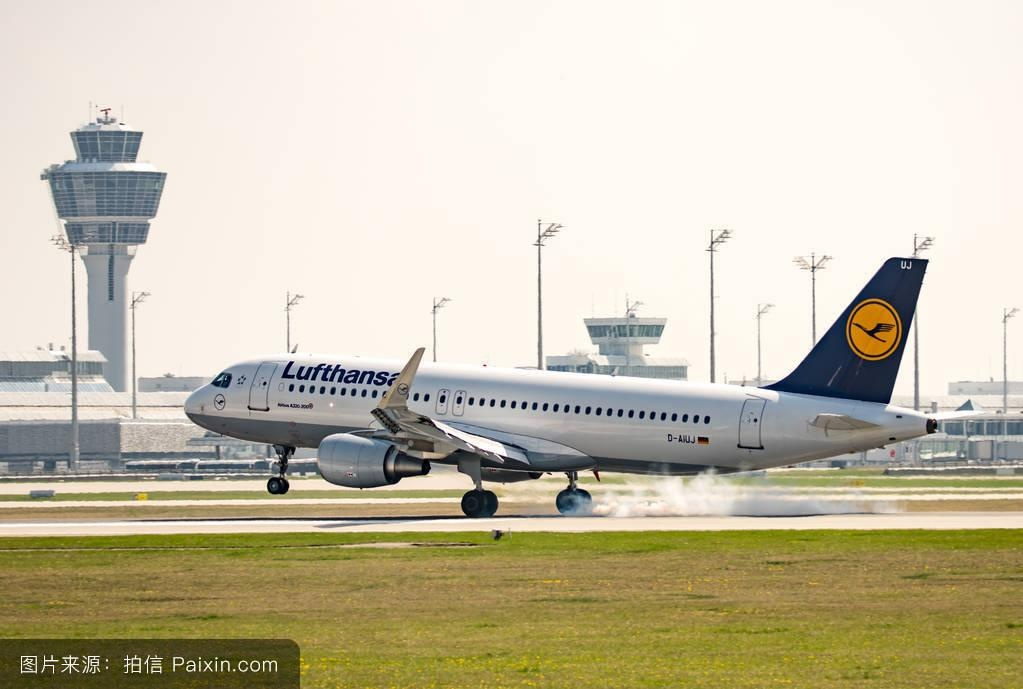airplane: (163, 255, 950, 522)
